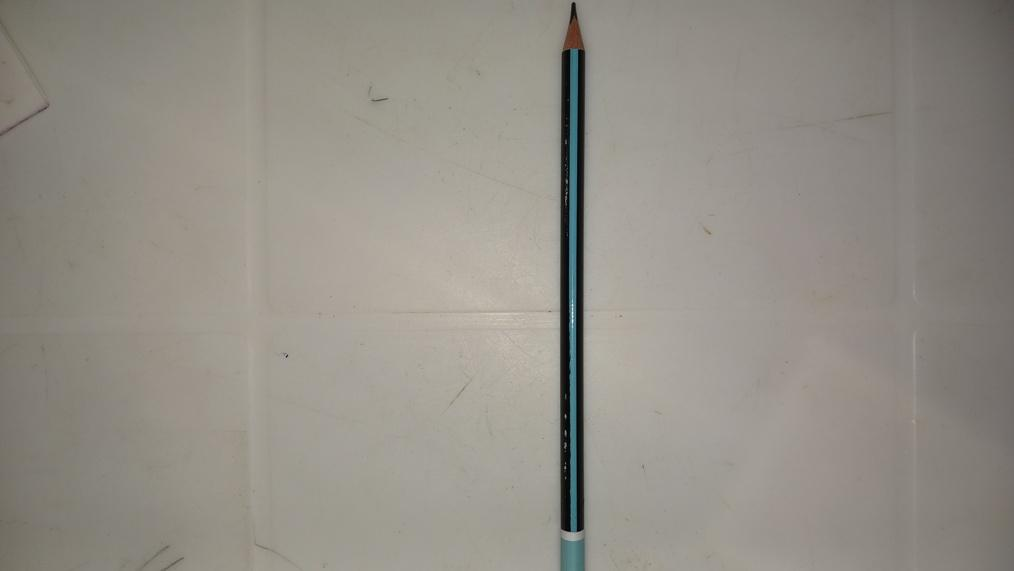Pencil: (560, 0, 583, 571)
